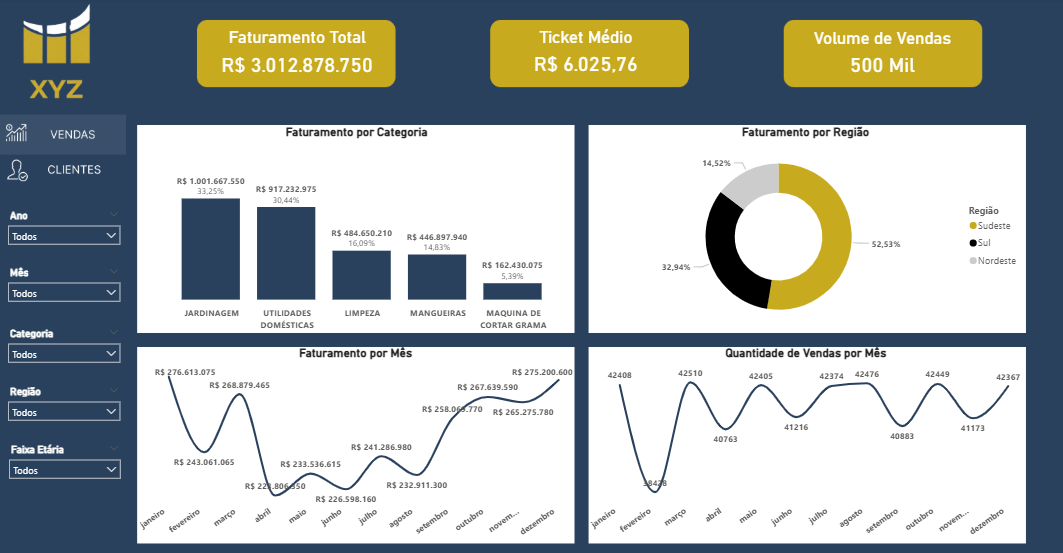

The dashboard page shown, as its layout file describes it:
{"tool":"powerbi","page":{"name":"Vendas","canvas":[1516,795],"ordinal":0},"visuals":[{"type":"card","title":"Faturamento Total","fields":{"Values":["Medidas.Total Vendas"]},"box":[281.6,42.3,285.8,74.1],"z":0},{"type":"card","title":"Ticket Médio","fields":{"Values":["Medidas.Ticket Médio"]},"box":[744.7,42.2,181.7,71.4],"z":1000},{"type":"card","title":"Volume de Vendas","fields":{"Values":["Medidas.Qtde Vendas"]},"box":[1108.1,43.8,300.2,71.4],"z":2000},{"type":"clusteredColumnChart","title":"Faturamento por Categoria","fields":{"Category":["Produtos.CATEGORIA"],"Y":["Medidas.Total Vendas"]},"box":[194.7,180.9,628.9,299.8],"z":3000},{"type":"donutChart","title":"Faturamento por Região","fields":{"Category":["Vendas.Região"],"Y":["Medidas.Total Vendas"]},"box":[834.9,180.8,628.7,299.1],"z":4000},{"type":"lineChart","title":"Faturamento por Mês","fields":{"Y":["Medidas.Total Vendas"],"Category":["dcalendario.Nome do Mês"]},"box":[194.4,495.2,628.7,282.2],"z":5000},{"type":"lineChart","title":"Quantidade de Vendas por Mês","fields":{"Category":["dcalendario.Nome do Mês"],"Y":["Medidas.Qtde Vendas"]},"box":[836.3,495.5,626.7,281.6],"z":6000},{"type":"slicer","fields":{"Values":["dcalendario.Ano"]},"box":[2.2,296.7,180,82.6],"z":7000},{"type":"slicer","fields":{"Values":["Produtos.CATEGORIA"]},"box":[2.2,464,180,82.6],"z":8000},{"type":"slicer","fields":{"Values":["dcalendario.Nome do Mês"]},"box":[2.2,377.2,180,82.6],"z":9000},{"type":"slicer","fields":{"Values":["Vendas.Região"]},"box":[2.2,546.6,180,82.6],"z":10000},{"type":"slicer","fields":{"Values":["Vendas.Faixa Etária"]},"box":[4.3,629.4,178.8,83.2],"z":11000},{"type":"actionButton","box":[2.9,214.3,178.6,61.4],"z":12000}]}

Visuals, with their boxes on the page's 1516x795 design canvas (x1, y1, x2, y2). These are canvas units, not pixel positions in the 1063x553 screenshot, which may show the page scaled, cropped or inside an application window:
"Faturamento Total" card: {"left": 282, "top": 42, "right": 567, "bottom": 116}
"Ticket Médio" card: {"left": 745, "top": 42, "right": 926, "bottom": 114}
"Volume de Vendas" card: {"left": 1108, "top": 44, "right": 1408, "bottom": 115}
"Faturamento por Categoria" clusteredColumnChart: {"left": 195, "top": 181, "right": 824, "bottom": 481}
"Faturamento por Região" donutChart: {"left": 835, "top": 181, "right": 1464, "bottom": 480}
"Faturamento por Mês" lineChart: {"left": 194, "top": 495, "right": 823, "bottom": 777}
"Quantidade de Vendas por Mês" lineChart: {"left": 836, "top": 496, "right": 1463, "bottom": 777}
slicer - dcalendario.Ano: {"left": 2, "top": 297, "right": 182, "bottom": 379}
slicer - Produtos.CATEGORIA: {"left": 2, "top": 464, "right": 182, "bottom": 547}
slicer - dcalendario.Nome do Mês: {"left": 2, "top": 377, "right": 182, "bottom": 460}
slicer - Vendas.Região: {"left": 2, "top": 547, "right": 182, "bottom": 629}
slicer - Vendas.Faixa Etária: {"left": 4, "top": 629, "right": 183, "bottom": 713}
actionButton: {"left": 3, "top": 214, "right": 182, "bottom": 276}
